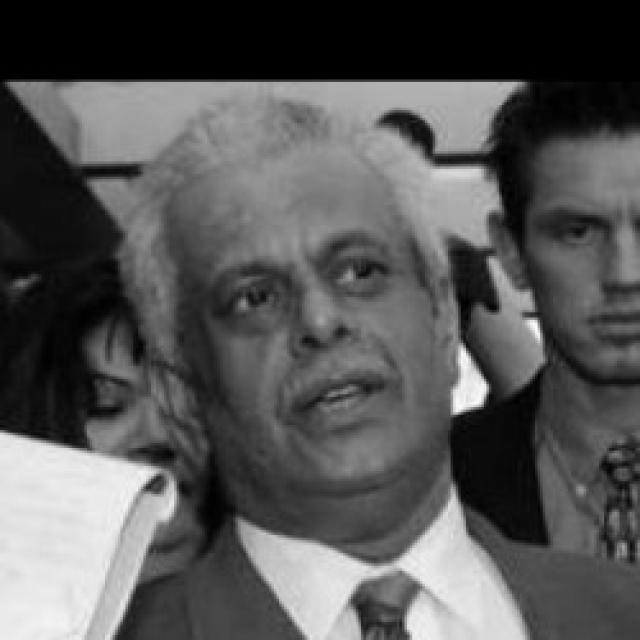real: (174, 134, 451, 514), (516, 72, 640, 454), (209, 245, 421, 325), (541, 204, 640, 262)
